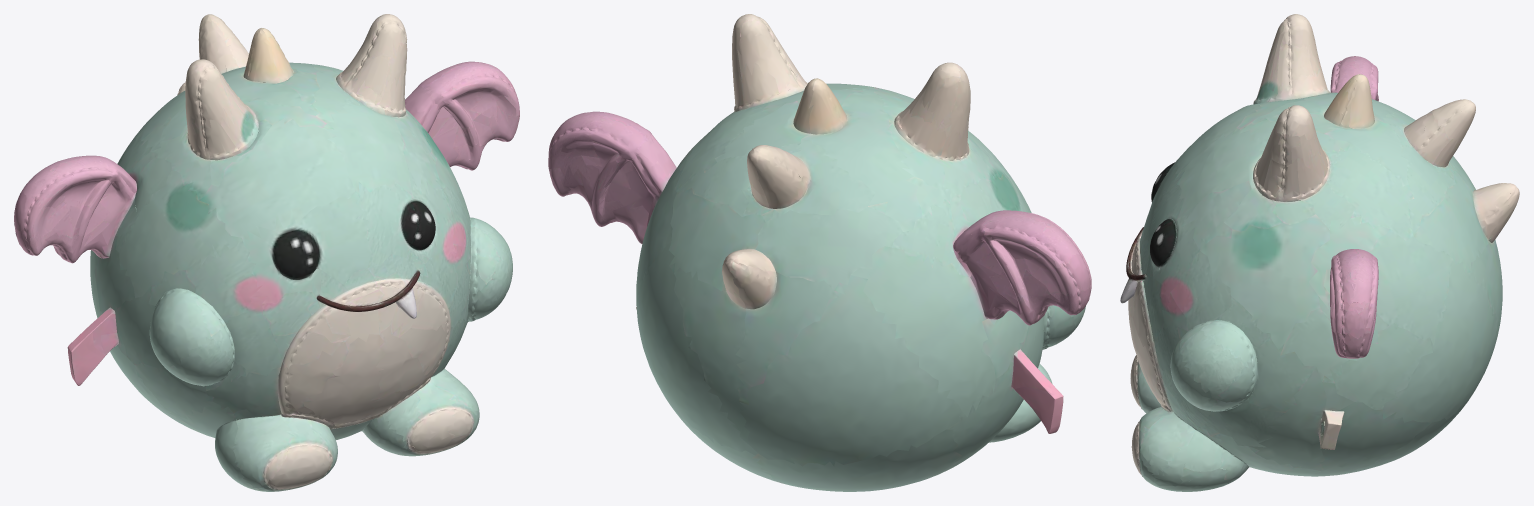
File: monster.gen.glb
The picture shows the model from 3 angles, left to right: view 1: azimuth 30°, elevation 25°; view 2: azimuth 150°, elevation 25°; view 3: azimuth 270°, elevation 25°; orthographic projection. The views are drawn at different scales.
Parts seen in each view (by area): view 1: LOD0; view 2: LOD0; view 3: LOD0.
Boxes of the visible parts, x1,y1,x2,y2 form: LOD0: [14, 14, 519, 491]; LOD0: [548, 14, 1091, 491]; LOD0: [1120, 14, 1519, 491].
Size of what is drawn, in the model's own units: 0.2355 by 0.1715 by 0.1627.
1 material, 1 textured.
